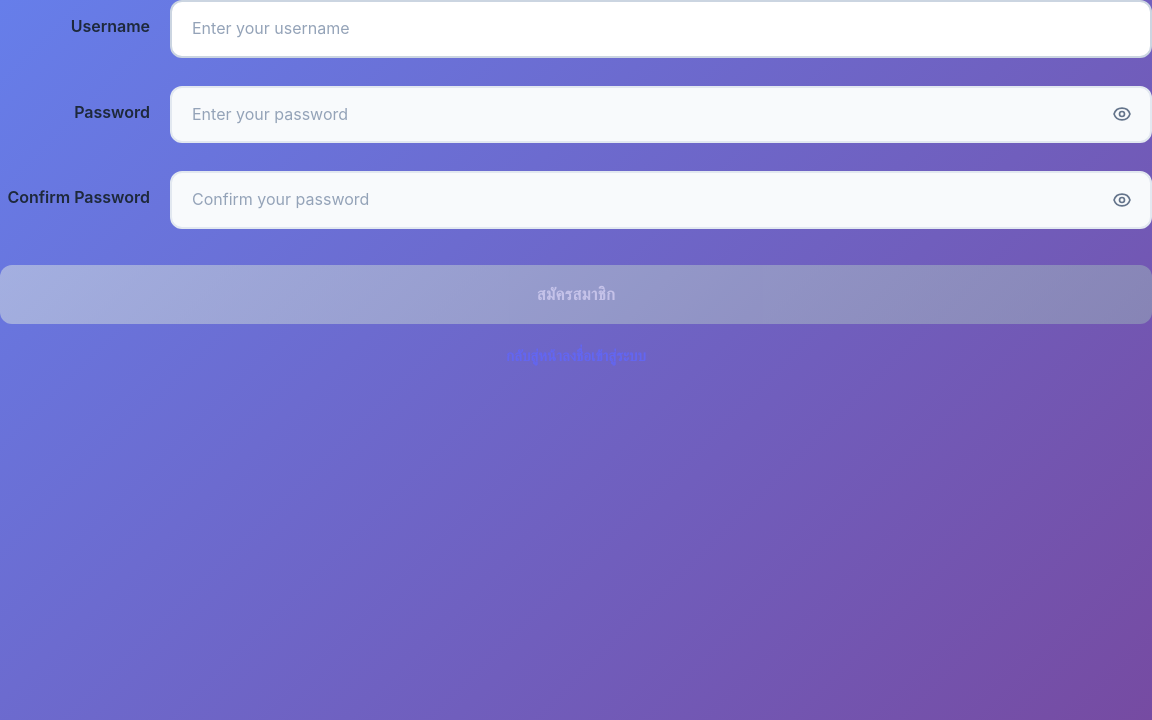
Test: RegisterForm › validates password requirements
This screenshot has width=1152, height=720.
Note: Test empty password
Type "testuser" into the field with id "register-username".
click(661, 29); type("testuser")  # box [170,0,1151,58]
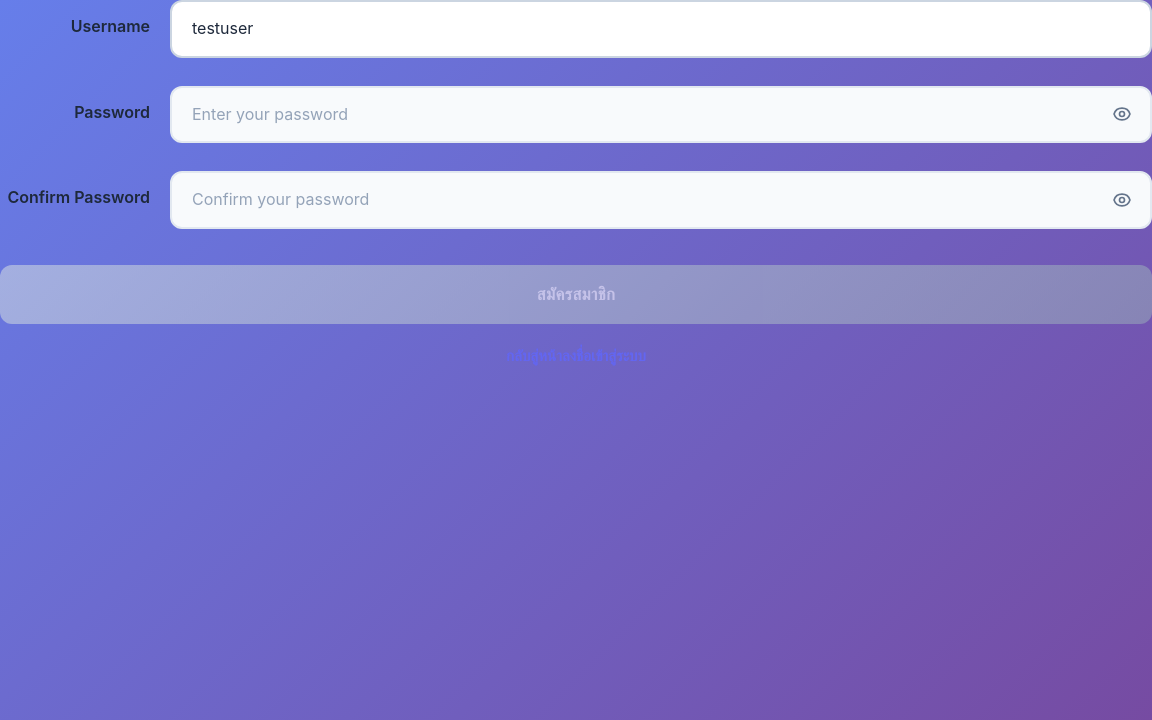
Submit the form, box [0,0,1151,368]
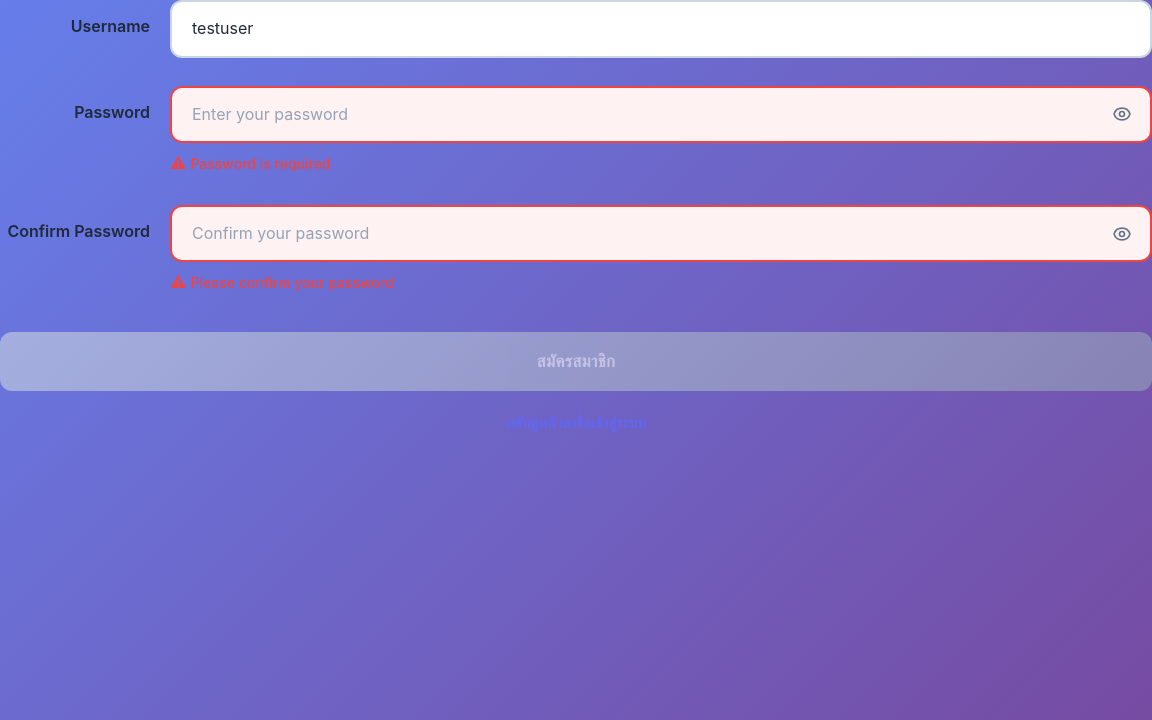
Check: the text "Password is required" is shown, box [190,155,330,172]
Note: Test password too short
Type "pass123" into the password field with id "register-password".
click(661, 114); type("pass123")  # box [170,86,1151,143]
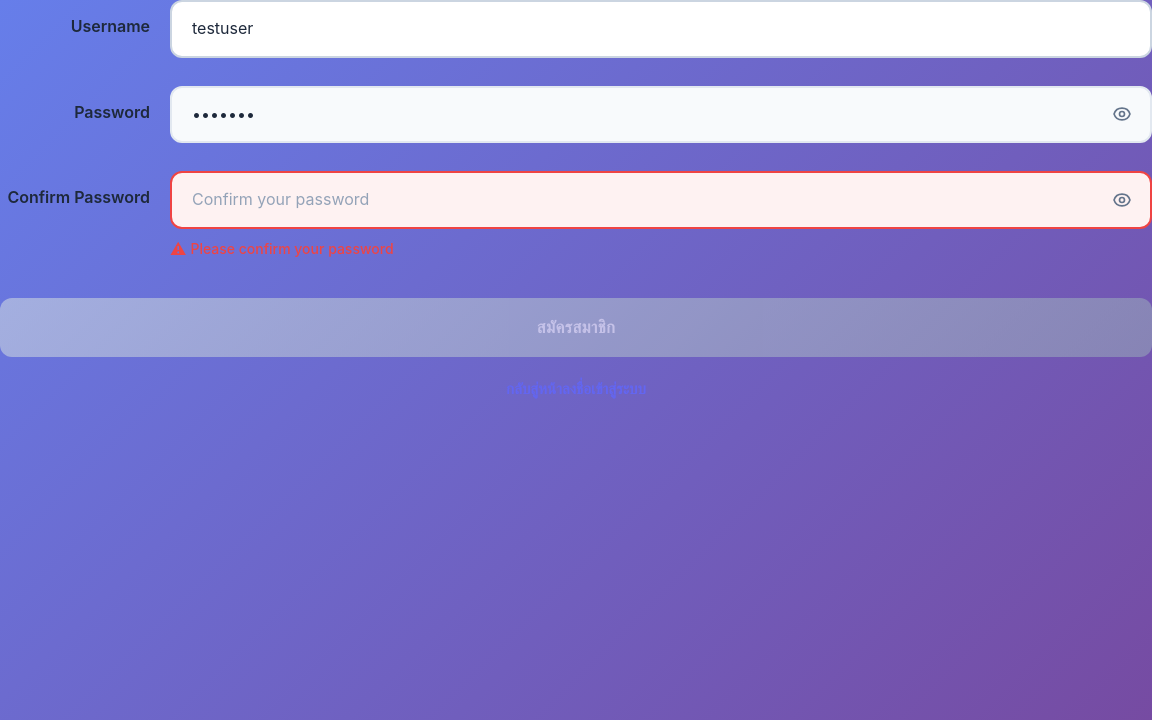
Type "pass123" into the password field with id "register-confirm-password".
click(661, 200); type("pass123")  # box [170,171,1151,229]
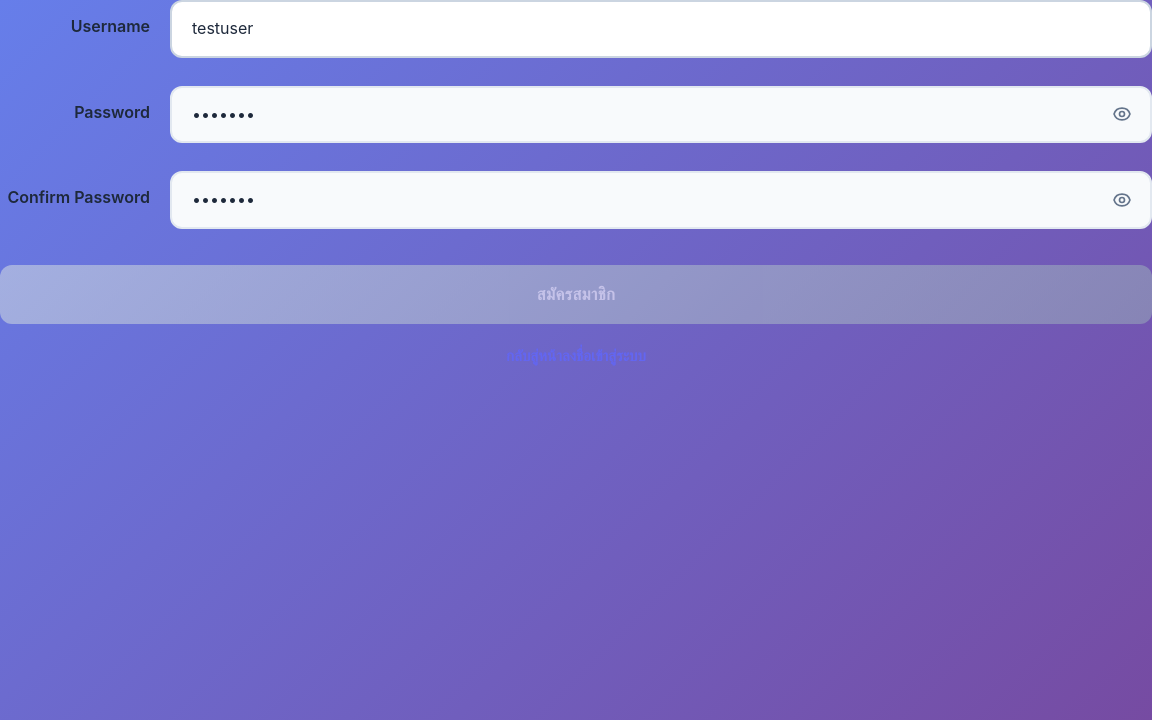
Submit the form, box [0,0,1151,368]
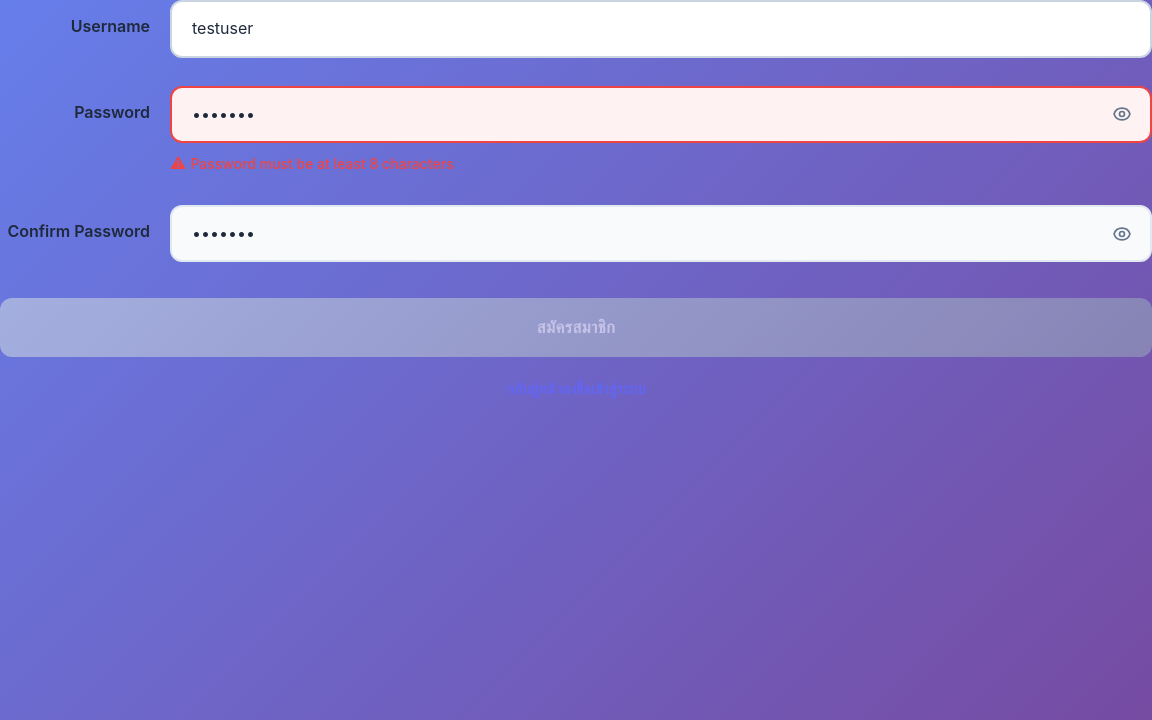
Check: the text "Password must be at least 8 characters" is shown, box [190,155,454,172]
